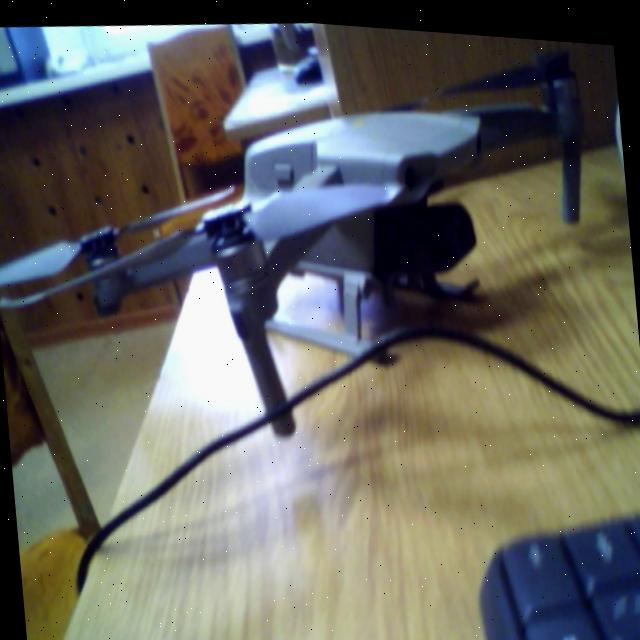drone: (0, 0, 640, 477)
